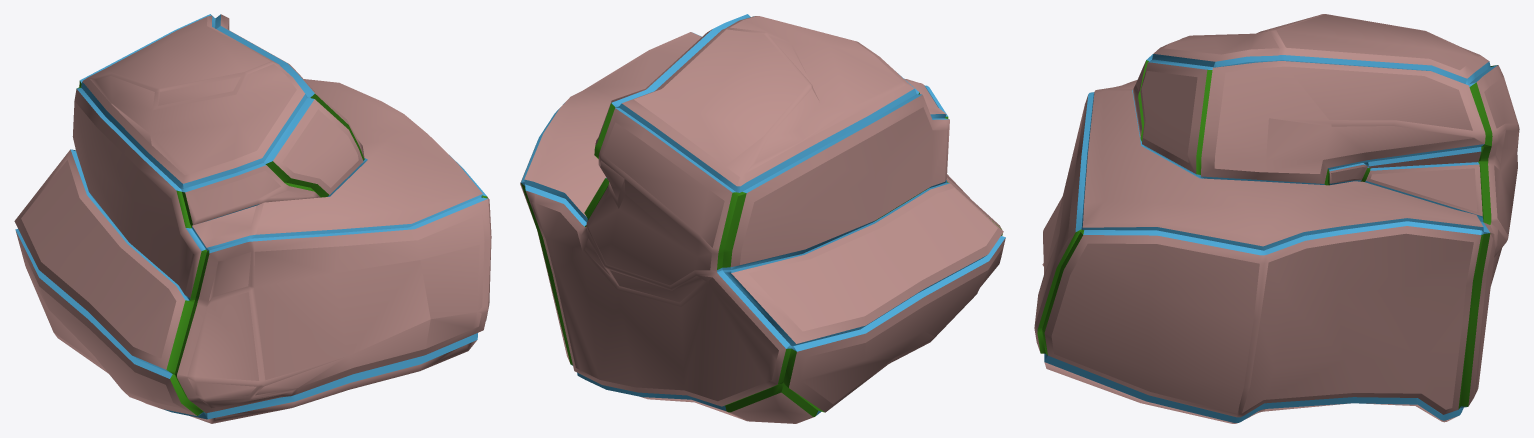
Rendered from otraroca.fbx.
3 views of the same model, side by side, from view 1: azimuth 30°, elevation 25°; view 2: azimuth 150°, elevation 25°; view 3: azimuth 270°, elevation 25° (orthographic). The views are drawn at different scales.
Parts seen in each view (by area): view 1: Roca1; view 2: Roca1; view 3: Roca1.
Boxes of the visible parts, <box> form: Roca1: <box>14,14,491,423</box>; Roca1: <box>520,14,1005,423</box>; Roca1: <box>1034,14,1519,423</box>.
Bounding box in the file's own units: 3.63 × 3.82 × 2.96.
